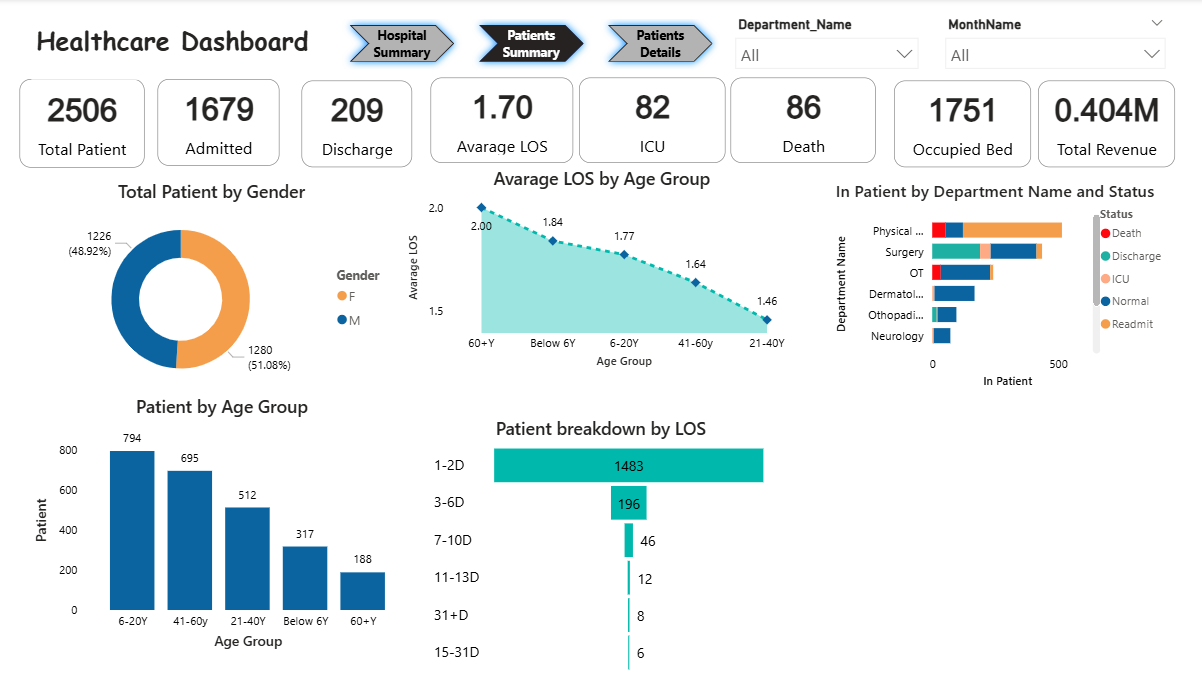

What the dashboard file says about the page in this screenshot:
{"tool":"powerbi","page":{"name":"Patients Summary ","canvas":[1280,720],"ordinal":1},"visuals":[{"type":"cardVisual","fields":{"Data":["Measure.Total Patient"]},"box":[21.2,86.2,132.5,93.8],"z":0},{"type":"textbox","box":[32.9,20.6,330.4,65.8],"z":1000},{"type":"slicer","fields":{"Values":["Department.Department_Name"]},"box":[769.2,15.1,213.9,71.3],"z":2000},{"type":"slicer","fields":{"Values":["Calendar_date.MonthName"]},"box":[992.6,15.1,253.6,71.3],"z":3000},{"type":"cardVisual","fields":{"Data":["Measure.In Patient"]},"box":[167.5,85.6,129.6,91.7],"z":4000},{"type":"cardVisual","fields":{"Data":["Measure.Total Discharge"]},"box":[319,86.8,117.4,91.7],"z":5000},{"type":"cardVisual","fields":{"Data":["Measure.Avarage LOS"]},"box":[456,84.3,151.6,90.5],"z":6000},{"type":"cardVisual","fields":{"Data":["Measure.ICU"]},"box":[613.7,84.3,155.2,90.5],"z":7000},{"type":"cardVisual","fields":{"Data":["Measure.Death"]},"box":[775,84.3,154,90.5],"z":8000},{"type":"cardVisual","fields":{"Data":["Measure.Occupied Bed"]},"box":[947.4,86.8,145.5,91.7],"z":9000},{"type":"cardVisual","fields":{"Data":["Measure.Total Revenue"]},"box":[1100.2,86.8,145.5,91.7],"z":10000},{"type":"donutChart","fields":{"Category":["Detail data dataset.Gender"],"Y":["Measure.Total Patient"]},"box":[20.8,191.9,407.1,228.6],"z":11000},{"type":"columnChart","fields":{"Y":["Measure.Total Patient"],"Category":["Detail data dataset.Age Bucket"]},"box":[31.4,420,407.1,275.7],"z":12000},{"type":"areaChart","fields":{"Y":["Measure.Avarage LOS"],"Category":["Detail data dataset.Age Bucket"]},"box":[427.8,178.5,420.5,218.8],"z":13000},{"type":"barChart","fields":{"Category":["Department.Department_Name"],"Y":["Measure.In Patient"],"Series":["Detail data dataset.Status"]},"box":[881.4,191.9,364.3,226.1],"z":14000},{"type":"funnel","title":"Patient breakdown by LOS","fields":{"Y":["Measure.Total Patient"],"Category":["Detail data dataset.Custom"]},"box":[454.9,443.8,364.2,276.8],"z":15000},{"type":"pageNavigator","box":[363.1,20.8,402.2,55],"z":17000}]}

Visuals, with their boxes in screenshot pixels (x1, y1, x2, y2), scaled from the page's 1280x720 canvas onto the 1202x677 screenshot:
cardVisual - Measure.Total Patient: {"left": 20, "top": 81, "right": 144, "bottom": 169}
textbox: {"left": 31, "top": 19, "right": 341, "bottom": 81}
slicer - Department.Department_Name: {"left": 722, "top": 14, "right": 923, "bottom": 81}
slicer - Calendar_date.MonthName: {"left": 932, "top": 14, "right": 1170, "bottom": 81}
cardVisual - Measure.In Patient: {"left": 157, "top": 80, "right": 279, "bottom": 167}
cardVisual - Measure.Total Discharge: {"left": 300, "top": 82, "right": 410, "bottom": 168}
cardVisual - Measure.Avarage LOS: {"left": 428, "top": 79, "right": 571, "bottom": 164}
cardVisual - Measure.ICU: {"left": 576, "top": 79, "right": 722, "bottom": 164}
cardVisual - Measure.Death: {"left": 728, "top": 79, "right": 872, "bottom": 164}
cardVisual - Measure.Occupied Bed: {"left": 890, "top": 82, "right": 1026, "bottom": 168}
cardVisual - Measure.Total Revenue: {"left": 1033, "top": 82, "right": 1170, "bottom": 168}
donutChart - Detail data dataset.Gender x Measure.Total Patient: {"left": 20, "top": 180, "right": 402, "bottom": 395}
columnChart - Measure.Total Patient x Detail data dataset.Age Bucket: {"left": 29, "top": 395, "right": 412, "bottom": 654}
areaChart - Measure.Avarage LOS x Detail data dataset.Age Bucket: {"left": 402, "top": 168, "right": 797, "bottom": 374}
barChart - Department.Department_Name x Measure.In Patient: {"left": 828, "top": 180, "right": 1170, "bottom": 393}
"Patient breakdown by LOS" funnel: {"left": 427, "top": 417, "right": 769, "bottom": 676}
pageNavigator: {"left": 341, "top": 20, "right": 719, "bottom": 71}
